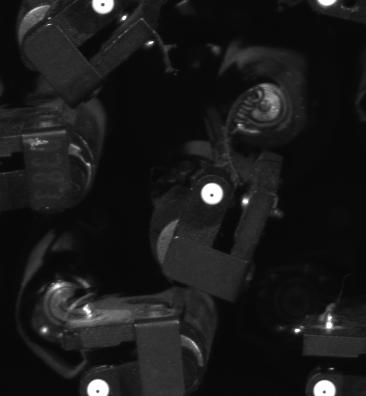fiber: (197, 178, 230, 208), (83, 373, 117, 396), (309, 375, 341, 396), (84, 1, 123, 18)
